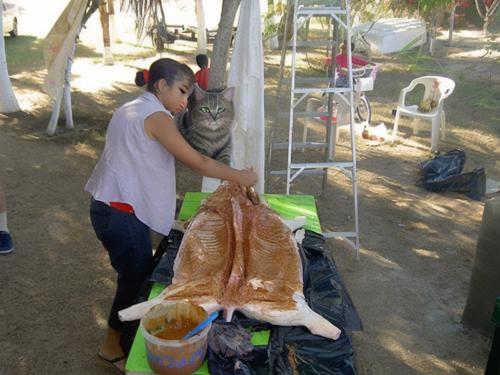cat: (174, 87, 234, 165)
chair: (391, 74, 460, 153)
person: (84, 54, 262, 375)
person/foot: (97, 340, 130, 374)
person/hand: (241, 170, 261, 189)
person/head: (148, 58, 194, 112)
